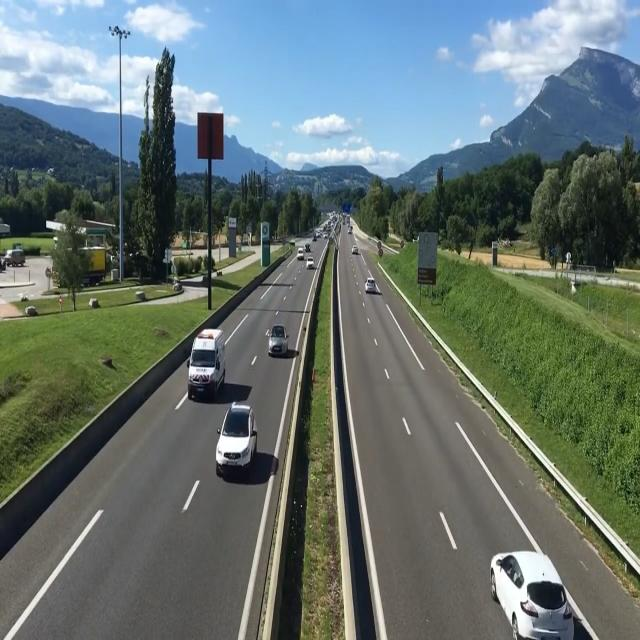car: (489, 553, 589, 640), (216, 402, 258, 482), (188, 323, 227, 406), (264, 322, 292, 358), (363, 273, 379, 298)
